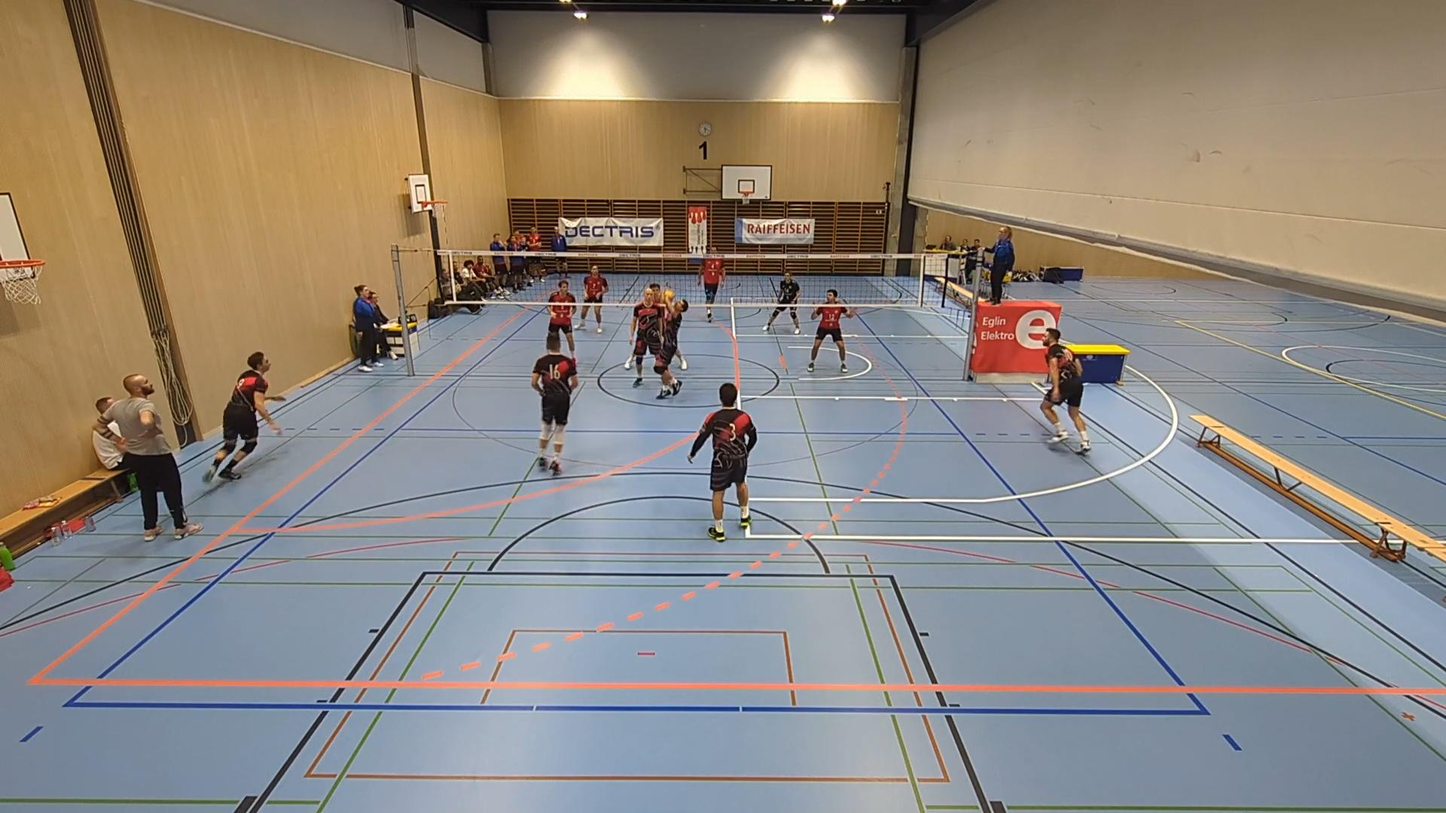alzata: (656, 289, 686, 403)
